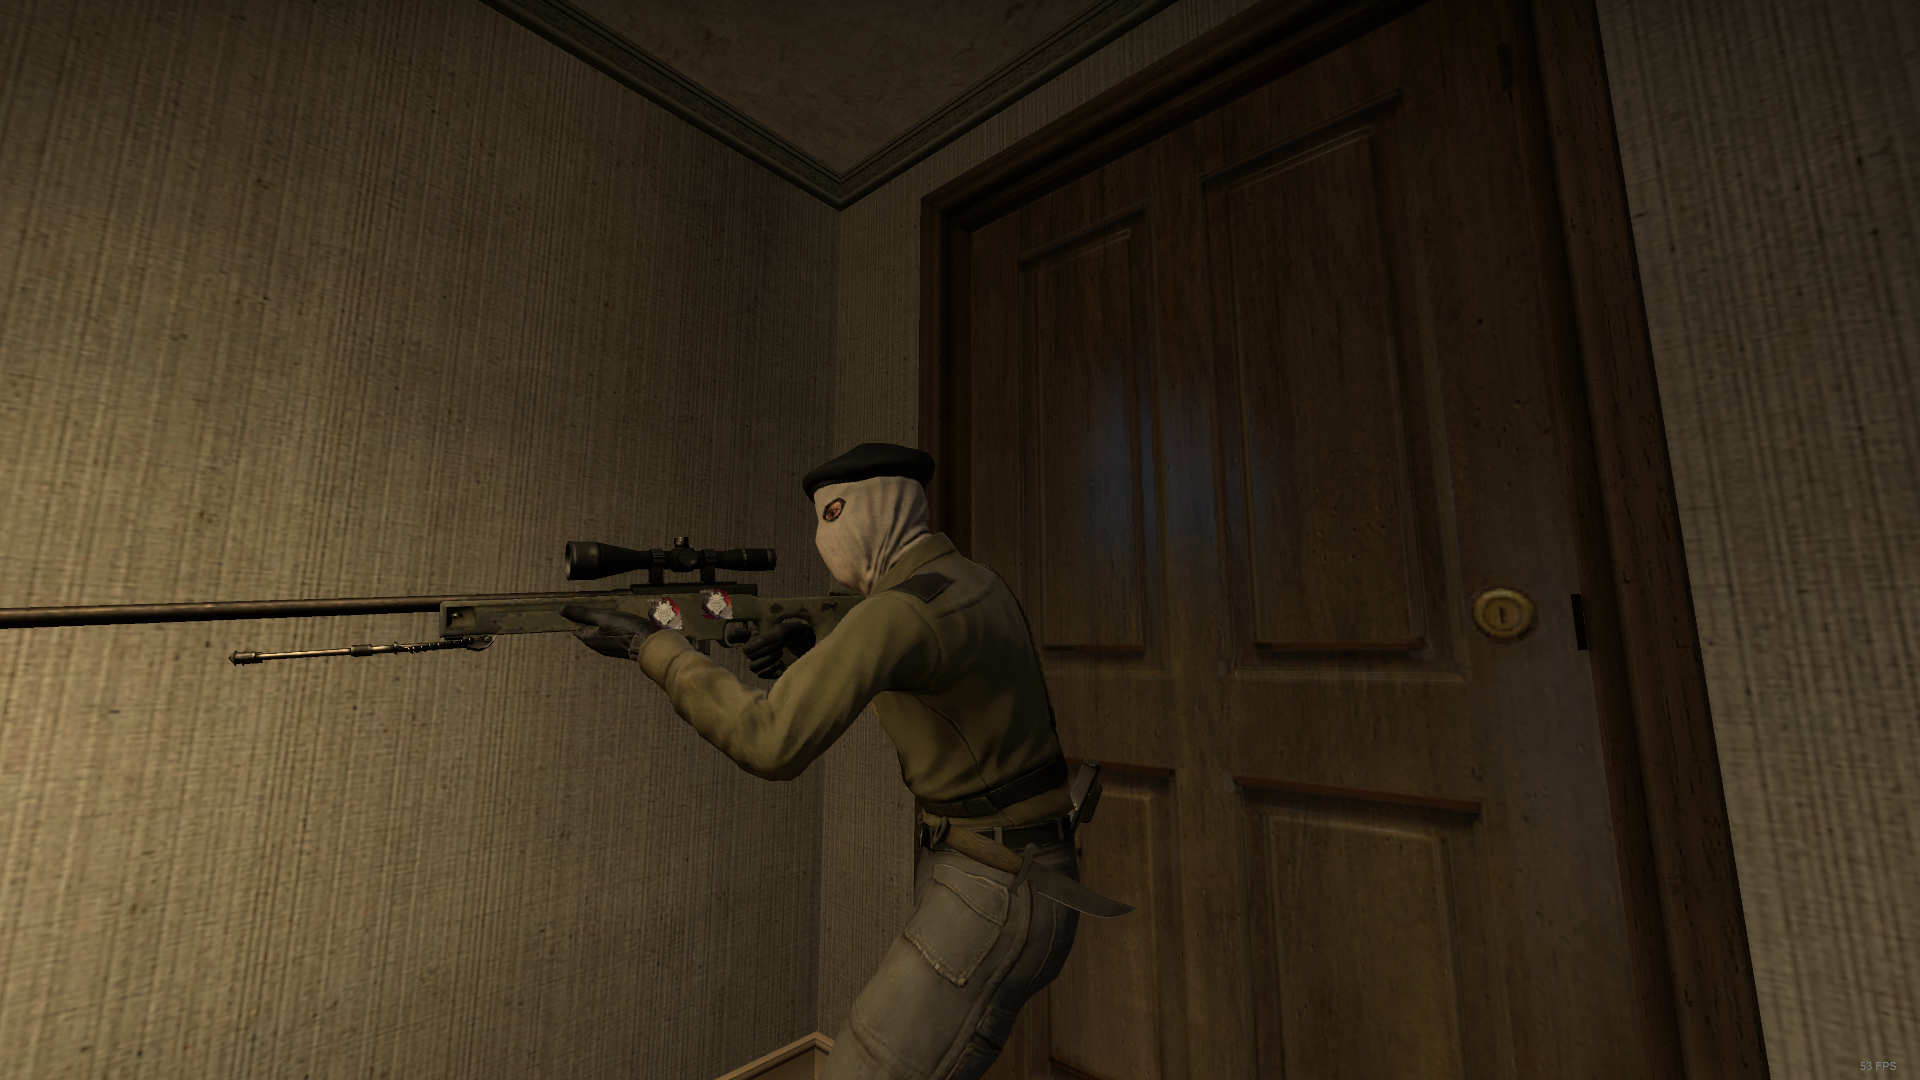t: (579, 440, 1083, 1080)
